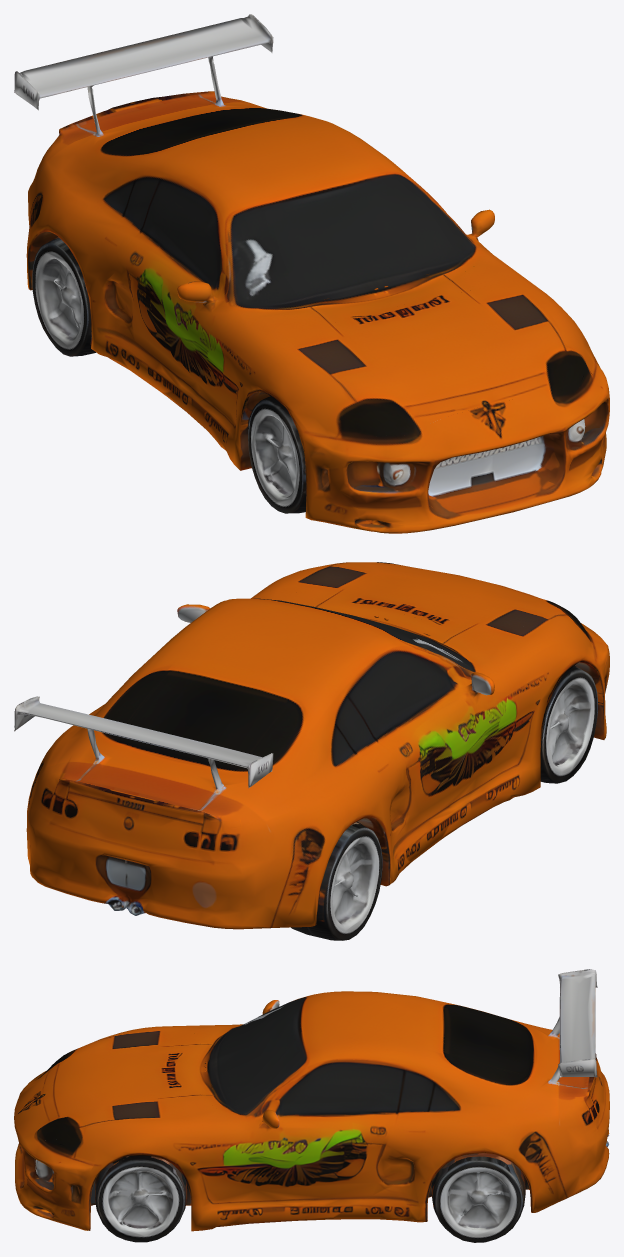
File: toyota-supra-mk4-ff.glb
3 renders of one model, top to bottom at view 1: azimuth 30°, elevation 25°; view 2: azimuth 150°, elevation 25°; view 3: azimuth 270°, elevation 25°, orthographic. The views are drawn at different scales.
Parts seen in each view (by area): view 1: Object_2, capo; view 2: Object_2, capo; view 3: Object_2, capo.
Part boxes in pixels (x1,y1,x2,y2): Object_2: [14, 14, 609, 533]; capo: [296, 285, 579, 443]; Object_2: [14, 562, 609, 940]; capo: [297, 562, 572, 641]; Object_2: [14, 969, 609, 1242]; capo: [41, 1034, 180, 1144].
Size of the model in its own units: 1.78 by 1.2 by 3.72.
9 materials, 1 textured.
